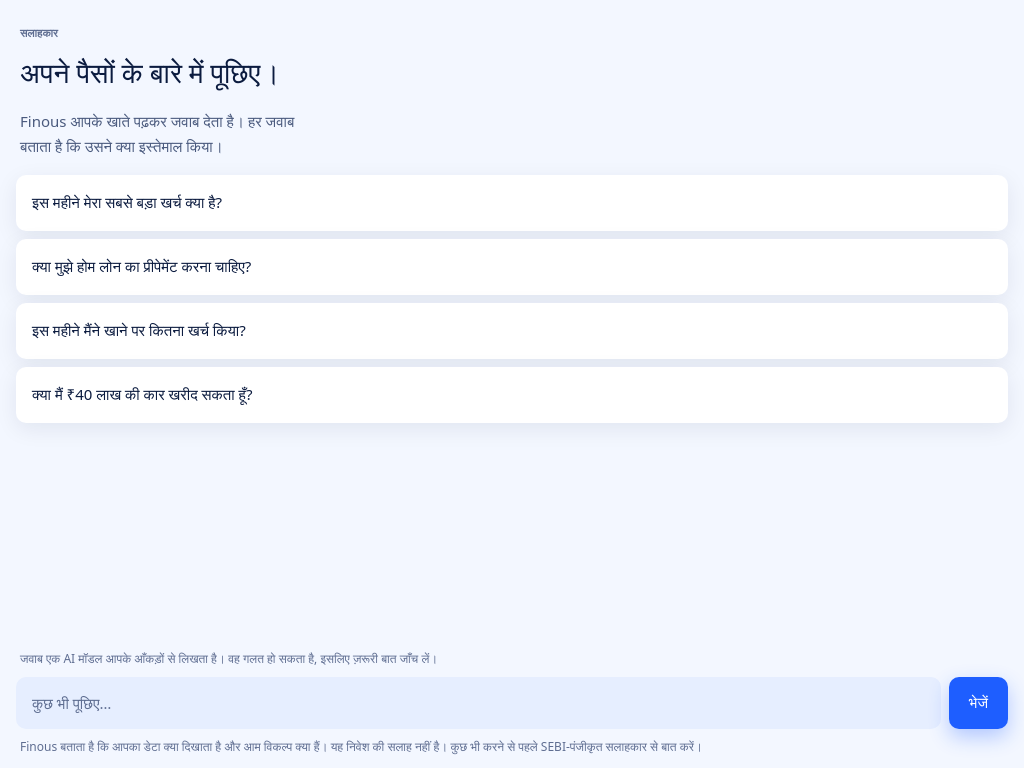
it: Advisor: Hindi and accessibility › is translated, and answers in Hindi
Click the button "इस महीने मेरा सबसे बड़ा खर्च क्या है?": (127, 202) [16,175,1008,231]
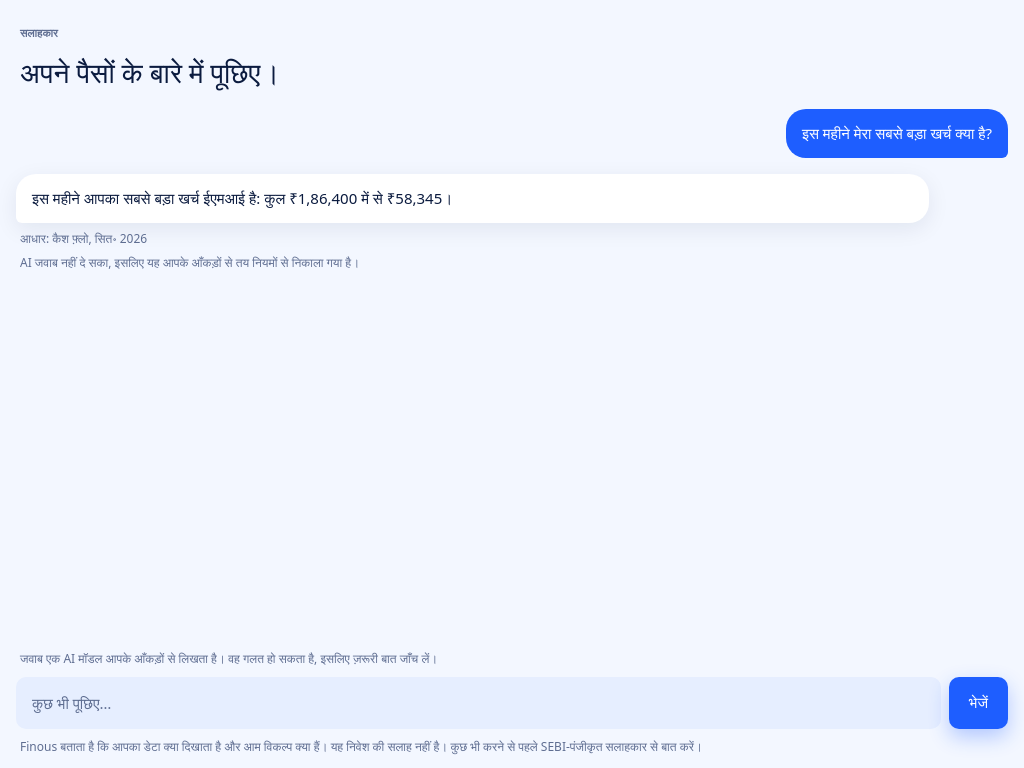
Expected: the heading reads "अपने पैसों के बारे में पूछिए।", [20,58,279,89]
Now the text "इस महीने आपका सबसे बड़ा खर्च ईएमआई है: कुल ₹1,86,400 में से ₹58,345।" is shown, box [31,187,452,208]
